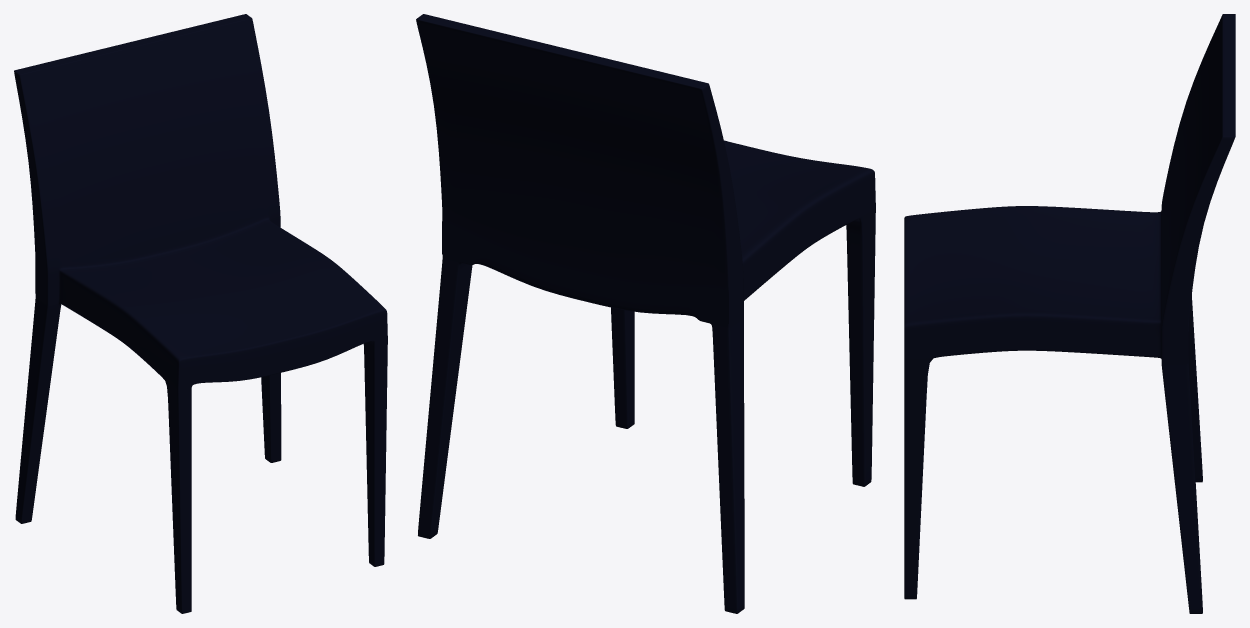
Rendered from Garden chair.obj.
The picture shows the model from 3 angles, left to right: view 1: azimuth 30°, elevation 25°; view 2: azimuth 150°, elevation 25°; view 3: azimuth 270°, elevation 25°; orthographic projection. The views are drawn at different scales.
Parts seen in each view (by area): view 1: Chair_Plane; view 2: Chair_Plane; view 3: Chair_Plane.
Part boxes in pixels (x1,y1,x2,y2): Chair_Plane: (14,14,387,613); Chair_Plane: (416,14,875,613); Chair_Plane: (904,14,1235,613).
Bounding box in the file's own units: 0.5 × 0.8 × 0.51.
